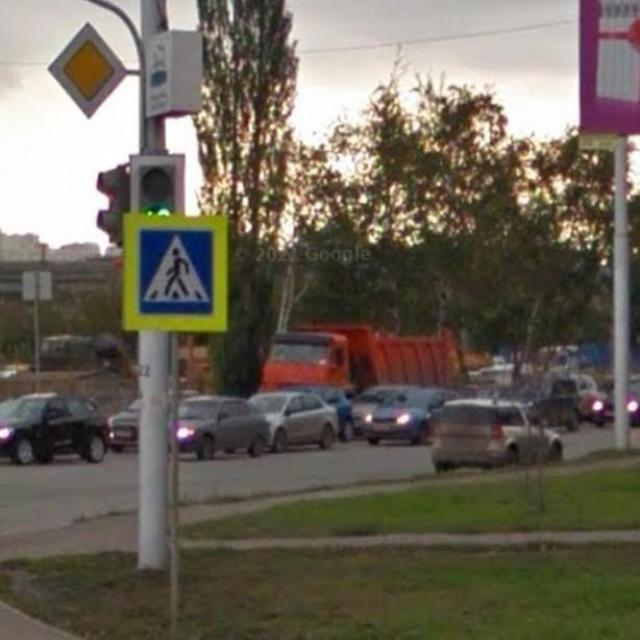traffic_sign: (117, 205, 233, 339), (45, 17, 132, 124)
